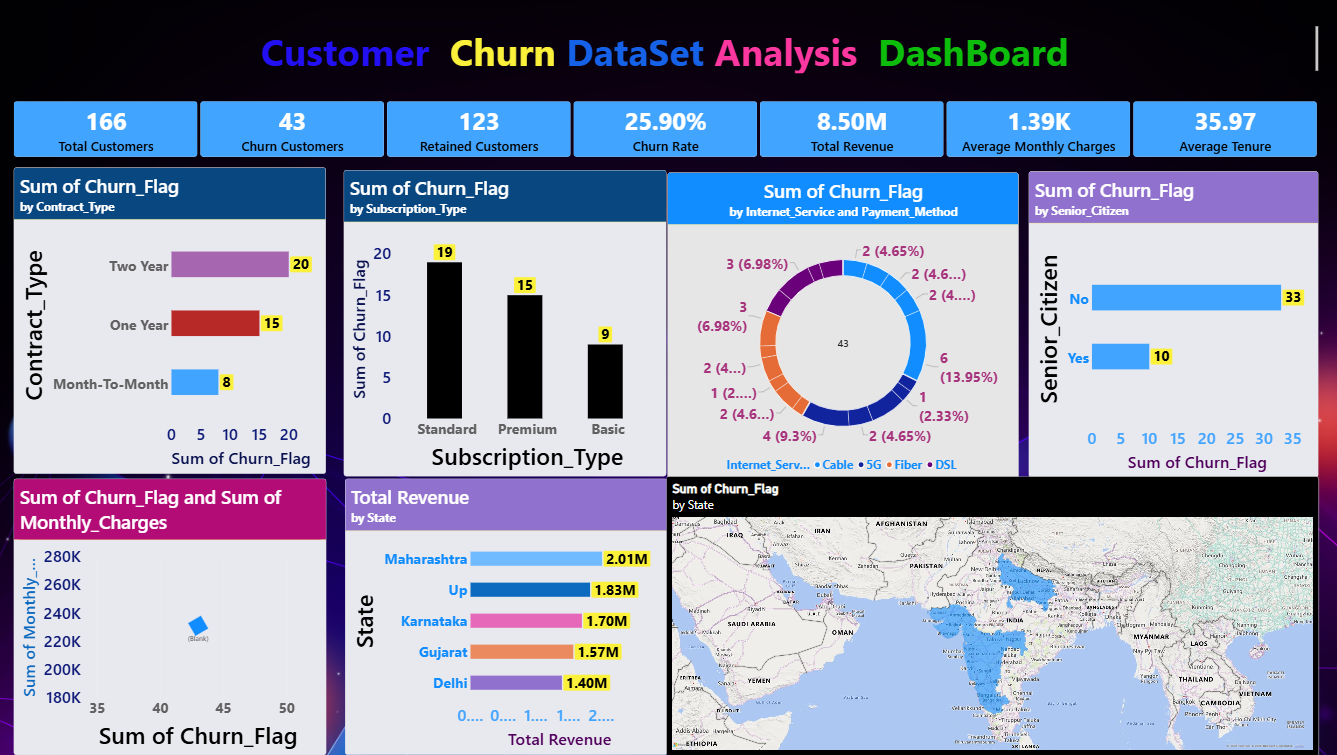

The page's visual inventory and layout, read from the dashboard file:
{"tool":"powerbi","page":{"name":"Page 1","canvas":[3840,2160],"ordinal":0},"visuals":[{"type":"shape","box":[54.4,41.9,3726.9,213.6],"z":0},{"type":"textbox","box":[54.4,75.4,3726.9,134],"z":1000},{"type":"cardVisual","fields":{"Data":["Clean_Churn_Data.Total Customers","Clean_Churn_Data.Churn Customers","Clean_Churn_Data.Retained Customers","Clean_Churn_Data.Churn Rate","Clean_Churn_Data.Total Revenue","Clean_Churn_Data.Average Monthly Charges","Clean_Churn_Data.Average Tenure"]},"box":[54.4,288.9,3726.9,159.1],"z":2000},{"type":"clusteredBarChart","fields":{"Category":["Clean_Churn_Data.Contract_Type"],"Y":["Sum(Clean_Churn_Data.Churn_Flag)"]},"box":[52.4,480.1,892,875.2],"z":3000},{"type":"columnChart","fields":{"Category":["Clean_Churn_Data.Subscription_Type"],"Y":["Sum(Clean_Churn_Data.Churn_Flag)"]},"box":[996.5,484.1,921.3,875.2],"z":4000},{"type":"scatterChart","fields":{"X":["Sum(Clean_Churn_Data.Churn_Flag)"],"Y":["Sum(Clean_Churn_Data.Monthly_Charges)"]},"box":[52.4,1367.7,892.9,789.3],"z":5000},{"type":"barChart","fields":{"Category":["Clean_Churn_Data.State"],"Y":["Clean_Churn_Data.Total Revenue"]},"box":[1000.5,1367.7,921,789],"z":6000},{"type":"donutChart","fields":{"Category":["Clean_Churn_Data.Internet_Service"],"Series":["Clean_Churn_Data.Payment_Method"],"Y":["Sum(Clean_Churn_Data.Churn_Flag)"]},"box":[1920.4,492.2,1003.6,875],"z":7000},{"type":"barChart","fields":{"Category":["Clean_Churn_Data.Senior_Citizen"],"Y":["Sum(Clean_Churn_Data.Churn_Flag)"]},"box":[2953.2,488.2,827.1,875.5],"z":8000},{"type":"filledMap","fields":{"Category":["Clean_Churn_Data.State"]},"box":[1916.4,1359.6,1863.9,798.8],"z":9000}]}

Visuals, with their boxes in screenshot pixels (x1, y1, x2, y2), scaled from the page's 3840x2160 canvas onto the 1337x755 screenshot:
shape: l=19, t=15, r=1317, b=89
textbox: l=19, t=26, r=1317, b=73
cardVisual - Clean_Churn_Data.Total Customers x Clean_Churn_Data.Churn Customers: l=19, t=101, r=1317, b=157
clusteredBarChart - Clean_Churn_Data.Contract_Type x Sum(Clean_Churn_Data.Churn_Flag): l=18, t=168, r=329, b=474
columnChart - Clean_Churn_Data.Subscription_Type x Sum(Clean_Churn_Data.Churn_Flag): l=347, t=169, r=668, b=475
scatterChart - Sum(Clean_Churn_Data.Churn_Flag) x Sum(Clean_Churn_Data.Monthly_Charges): l=18, t=478, r=329, b=754
barChart - Clean_Churn_Data.State x Clean_Churn_Data.Total Revenue: l=348, t=478, r=669, b=754
donutChart - Clean_Churn_Data.Internet_Service x Clean_Churn_Data.Payment_Method: l=669, t=172, r=1018, b=478
barChart - Clean_Churn_Data.Senior_Citizen x Sum(Clean_Churn_Data.Churn_Flag): l=1028, t=171, r=1316, b=477
filledMap - Clean_Churn_Data.State: l=667, t=475, r=1316, b=754
